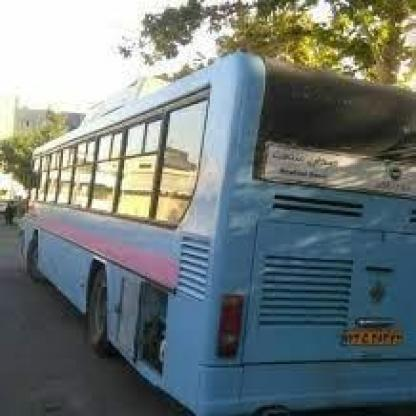Bus: (15, 50, 416, 416)
